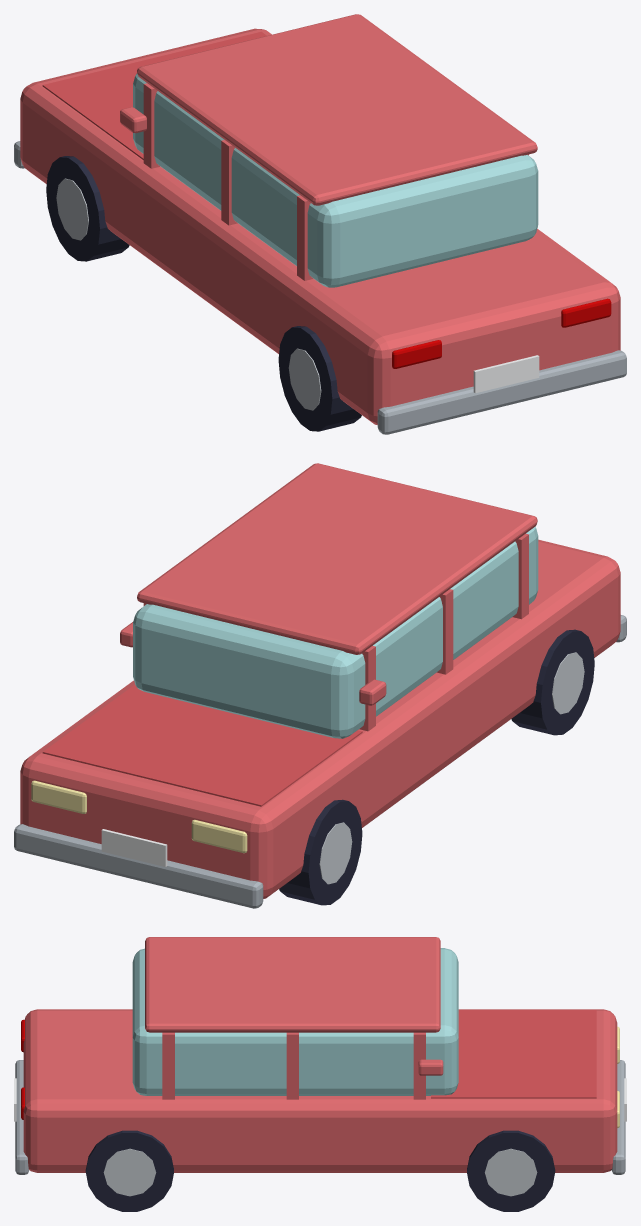
The model's file is hm_car.glb.
3 renders of one model, top to bottom at view 1: azimuth 30°, elevation 25°; view 2: azimuth 150°, elevation 25°; view 3: azimuth 270°, elevation 25°, orthographic. The views are drawn at different scales.
Parts seen in each view (by area): view 1: Cube, Cube.002, Cube.001, Cube.012, Cube.016, Cylinder.002, Cylinder, Cube.013, Cylinder.001, Cylinder.003, Cube.011, Cube.005 (+3 smaller); view 2: Cube, Cube.002, Cube.001, Cube.016, Cube.014, Cylinder, Cylinder.002, Cube.015, Cylinder.001, Cylinder.003, Cube.007, Cube.010 (+3 smaller); view 3: Cube, Cube.002, Cube.001, Cube.016, Cylinder.004, Cylinder.006, Cylinder.005, Cylinder.007, Cube.012, Cube.014, Cube.003, Cube.004 (+2 smaller).
Boxes of the visible parts, left/top/right/bottom form: Cube: left=20, top=28, right=620, bottom=424; Cube.002: left=137, top=14, right=537, bottom=205; Cube.001: left=133, top=73, right=538, bottom=287; Cube.012: left=377, top=350, right=626, bottom=434; Cube.016: left=42, top=31, right=266, bottom=159; Cylinder.002: left=46, top=156, right=129, bottom=261; Cylinder: left=278, top=326, right=361, bottom=431; Cube.013: left=473, top=355, right=539, bottom=393; Cylinder.001: left=288, top=348, right=321, bottom=410; Cylinder.003: left=56, top=178, right=88, bottom=240; Cube.011: left=561, top=298, right=611, bottom=327; Cube.005: left=143, top=83, right=159, bottom=168; Cube: left=20, top=539, right=620, bottom=898; Cube.002: left=137, top=463, right=537, bottom=654; Cube.001: left=133, top=526, right=538, bottom=738; Cube.016: left=42, top=684, right=362, bottom=806; Cube.014: left=14, top=824, right=263, bottom=908; Cylinder: left=511, top=629, right=594, bottom=735; Cylinder.002: left=279, top=799, right=362, bottom=905; Cube.015: left=101, top=829, right=167, bottom=866; Cylinder.001: left=552, top=652, right=584, bottom=714; Cylinder.003: left=319, top=822, right=352, bottom=884; Cube.007: left=191, top=819, right=247, bottom=853; Cube.010: left=31, top=780, right=86, bottom=813; Cube: left=23, top=1009, right=617, bottom=1172; Cube.002: left=145, top=937, right=440, bottom=1032; Cube.001: left=132, top=948, right=458, bottom=1095; Cube.016: left=431, top=1010, right=596, bottom=1098; Cylinder.004: left=85, top=1130, right=173, bottom=1211; Cylinder.006: left=467, top=1130, right=555, bottom=1211; Cylinder.005: left=103, top=1148, right=156, bottom=1196; Cylinder.007: left=484, top=1148, right=537, bottom=1196; Cube.012: left=15, top=1060, right=29, bottom=1174; Cube.014: left=611, top=1060, right=625, bottom=1174; Cube.003: left=162, top=1032, right=174, bottom=1099; Cube.004: left=286, top=1032, right=298, bottom=1099.
Size of the model in its own units: 181 by 143 by 444.
